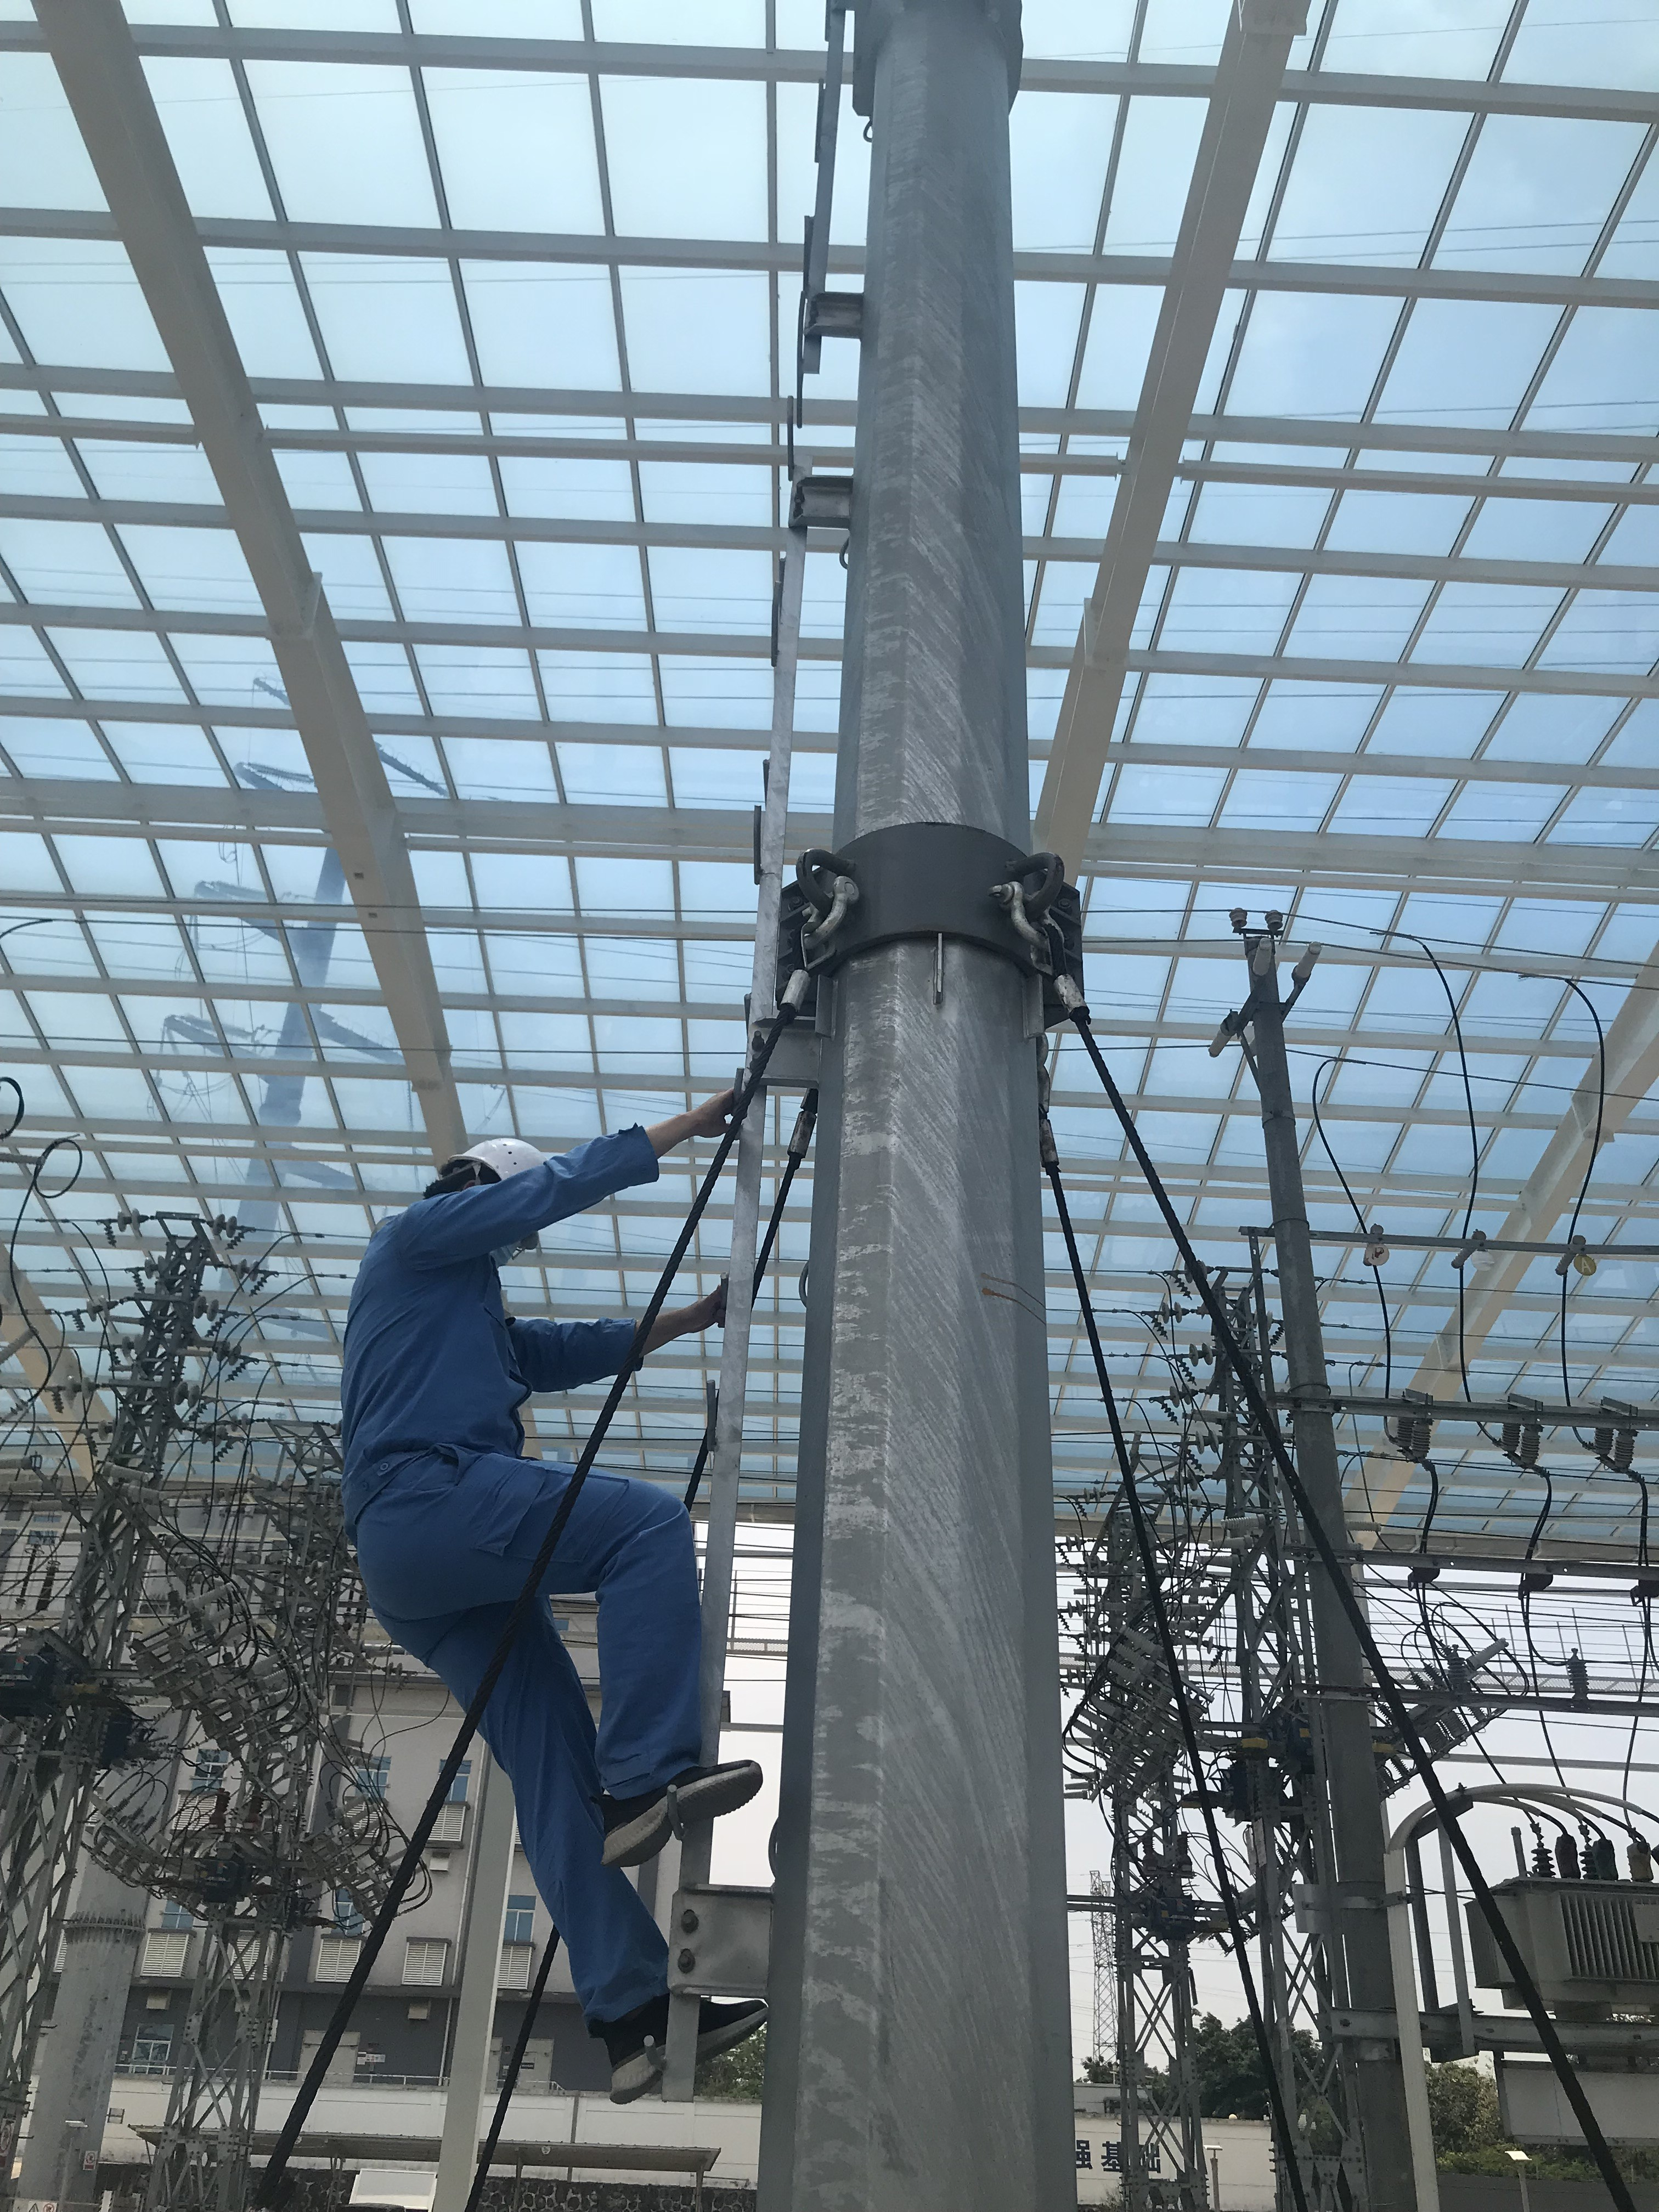downsuit: (343, 1496, 723, 2010)
upsuit: (331, 1150, 638, 1451)
wrongtop: (596, 1096, 735, 1366)
